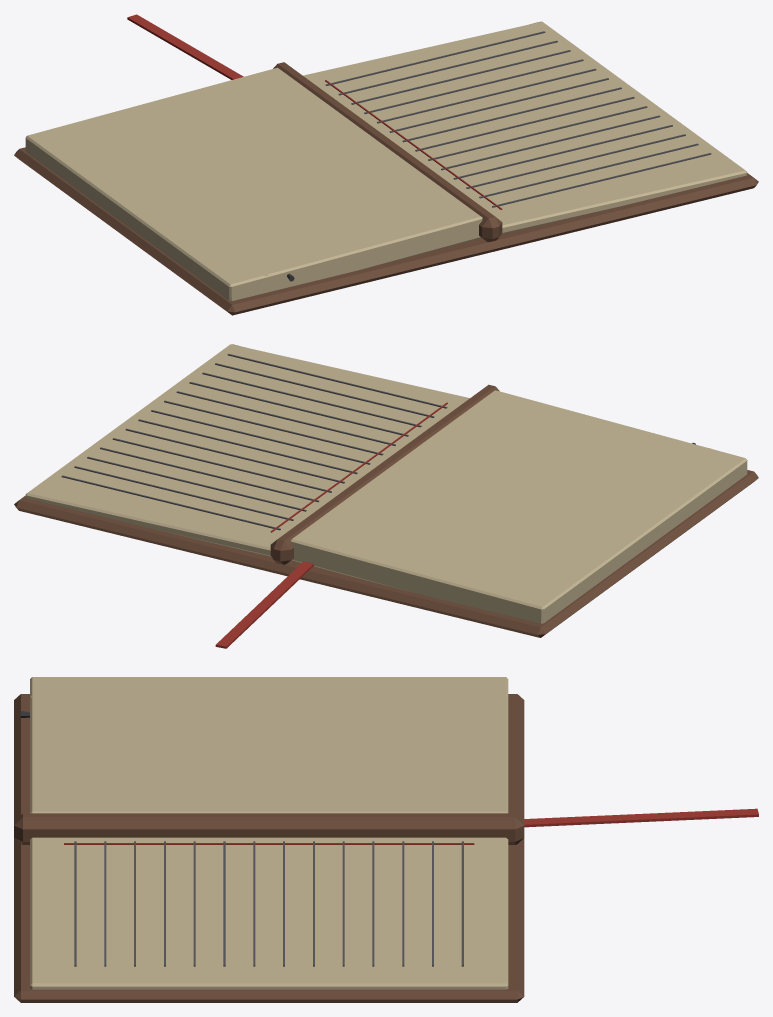
The model's file is table-logbook.glb.
3 views of the same model, one above another, from view 1: azimuth 30°, elevation 25°; view 2: azimuth 150°, elevation 25°; view 3: azimuth 270°, elevation 25° (orthographic). The views are drawn at different scales.
Parts seen in each view (by area): view 1: table-logbook; view 2: table-logbook; view 3: table-logbook.
Part boxes in pixels (<box>): table-logbook: <box>14,14,758,315</box>; table-logbook: <box>14,344,758,648</box>; table-logbook: <box>14,677,758,1002</box>.
Bounding box in the file's own units: 0.314 × 0.019 × 0.327.
